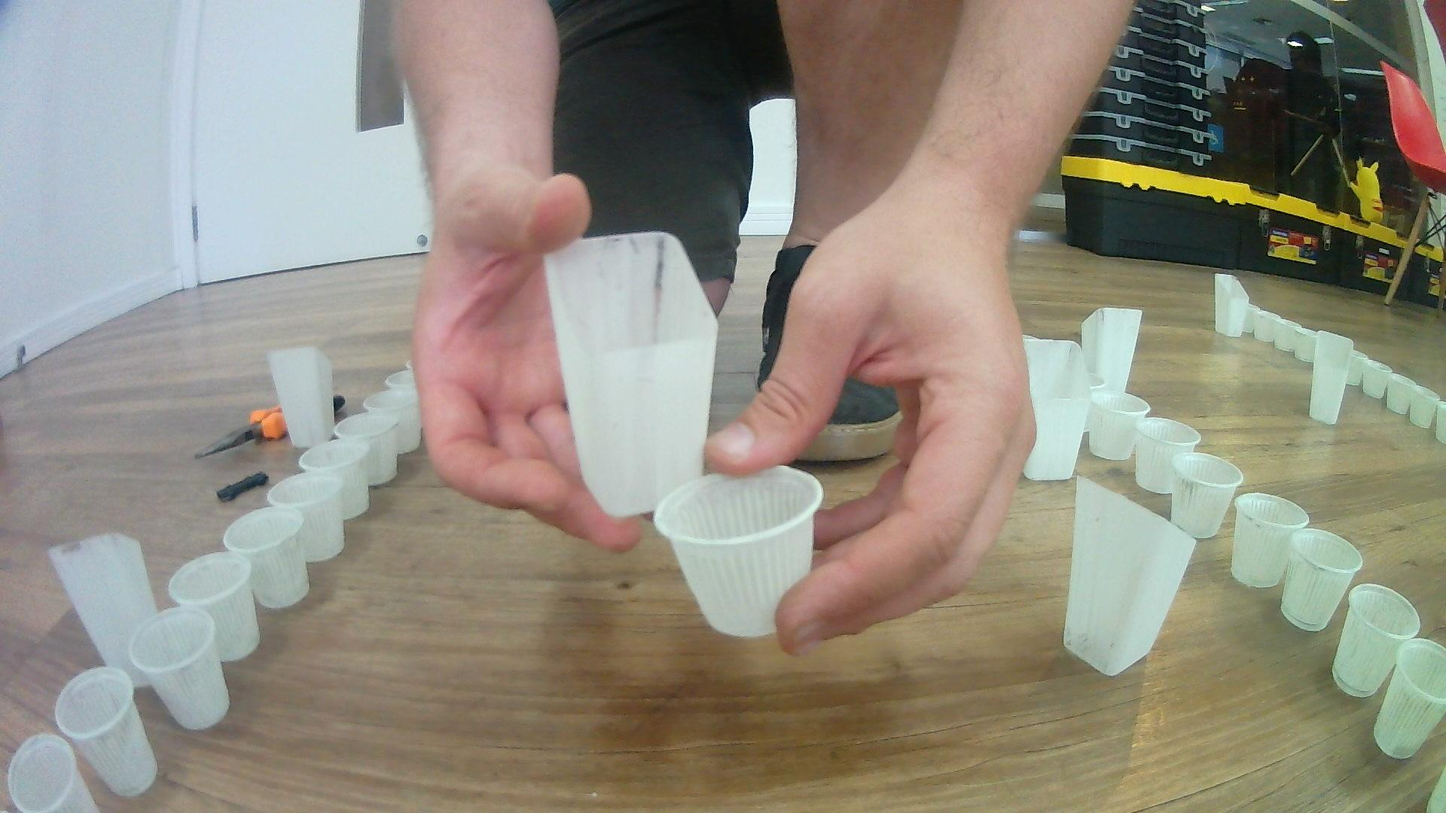erva_daninha: (543, 227, 719, 522), (1060, 473, 1197, 680), (47, 531, 157, 688), (1018, 336, 1092, 481), (268, 346, 335, 450), (1079, 306, 1145, 397), (1307, 329, 1355, 425), (1213, 273, 1250, 338)
planta: (654, 464, 822, 641), (53, 665, 158, 801), (124, 606, 233, 732), (167, 551, 262, 662), (1330, 582, 1420, 698), (222, 504, 312, 610), (1278, 526, 1363, 634), (1373, 637, 1446, 760), (1229, 491, 1310, 589), (6, 733, 101, 813), (266, 470, 345, 564), (1170, 451, 1245, 540), (297, 436, 374, 521), (1134, 415, 1202, 495), (333, 410, 400, 487), (1084, 391, 1151, 461), (362, 388, 422, 455), (1383, 373, 1417, 414), (1408, 385, 1439, 429), (1362, 359, 1393, 399), (1242, 303, 1269, 340), (384, 367, 416, 397), (1292, 326, 1317, 362), (1344, 350, 1368, 386), (1273, 320, 1299, 352), (1259, 312, 1281, 343), (1435, 400, 1446, 443)
